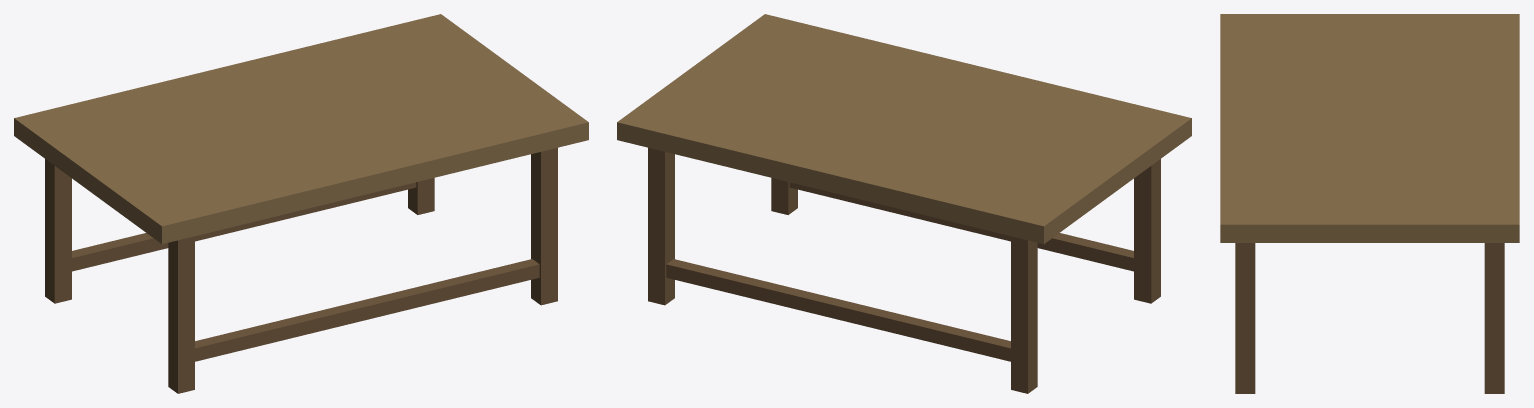
Rendered from table.glb.
3 renders of one model, left to right at view 1: azimuth 30°, elevation 25°; view 2: azimuth 150°, elevation 25°; view 3: azimuth 270°, elevation 25°, orthographic.
Bounding box in the file's own units: 2 × 0.8 × 1.2.
